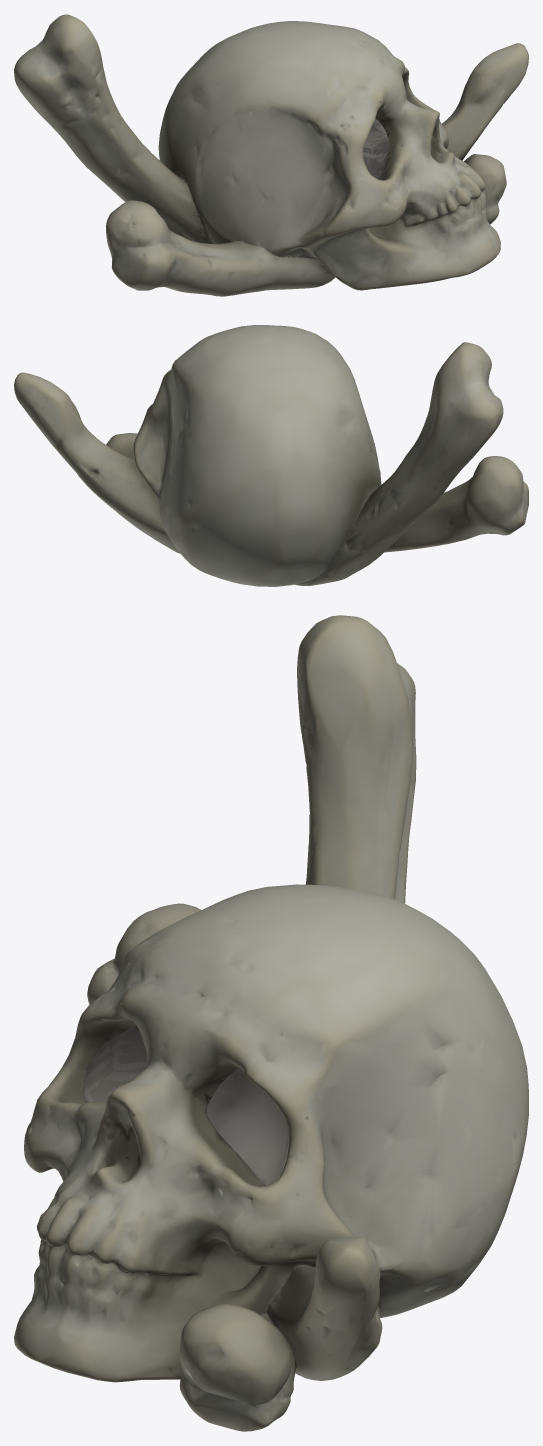
The model's file is Prop - Skull.glb.
The picture shows the model from 3 angles, top to bottom: view 1: azimuth 30°, elevation 25°; view 2: azimuth 150°, elevation 25°; view 3: azimuth 270°, elevation 25°; orthographic projection. The views are drawn at different scales.
Parts seen in each view (by area): view 1: skull; view 2: skull; view 3: skull.
Boxes of the visible parts, box(x1,y1,x2,y2) form: skull: box(14, 14, 528, 296); skull: box(14, 325, 528, 586); skull: box(14, 615, 528, 1431).
Bounding box in the file's own units: 1.16 × 0.6273 × 0.5917.
2 materials, 1 textured.
